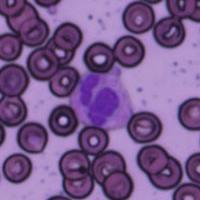N: (70, 71, 133, 130)
